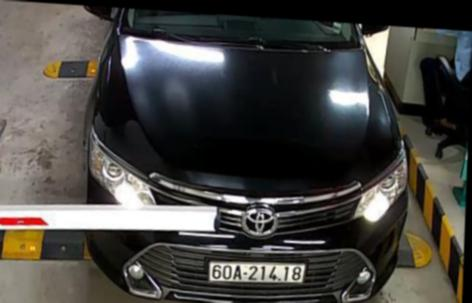License_Plate: (205, 254, 305, 286)
